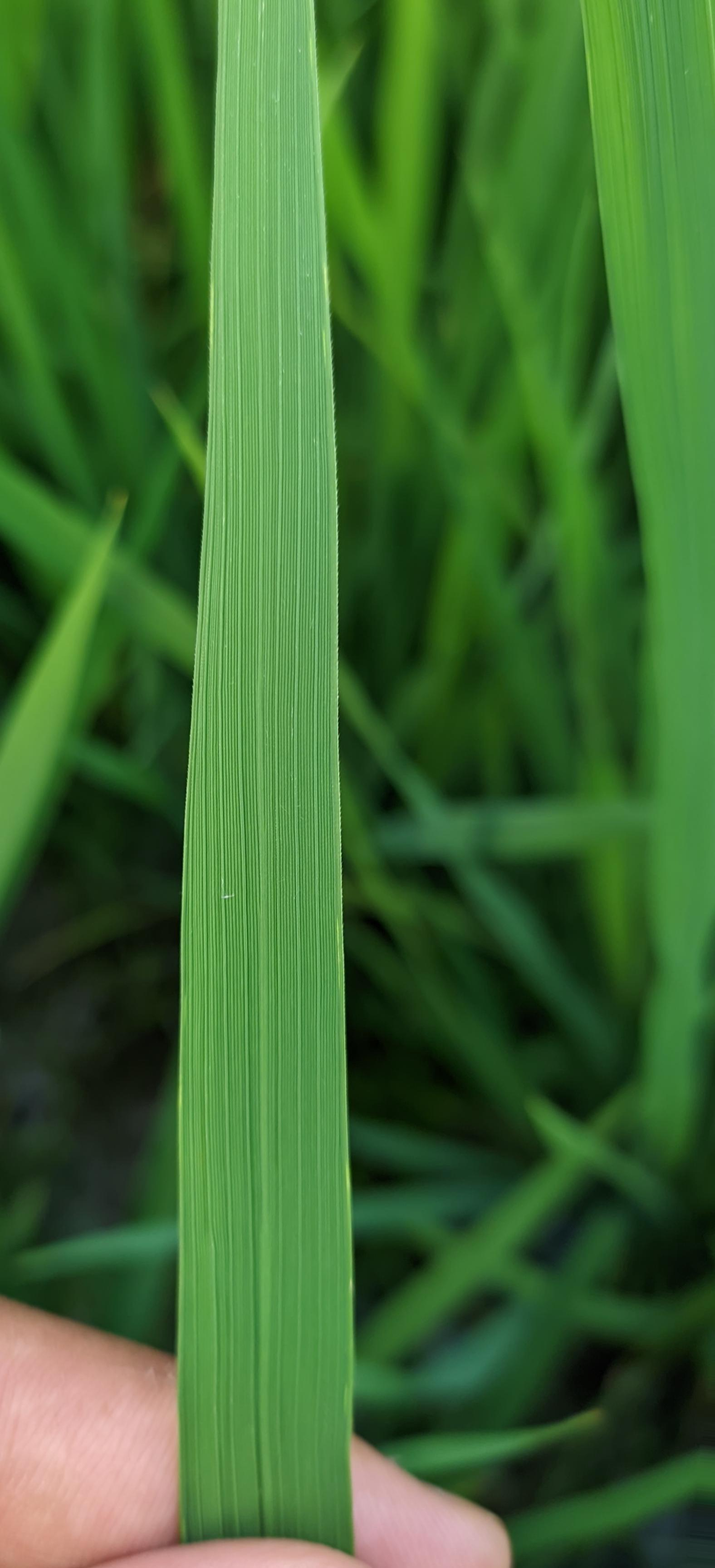Healthy: (177, 0, 355, 1558)
